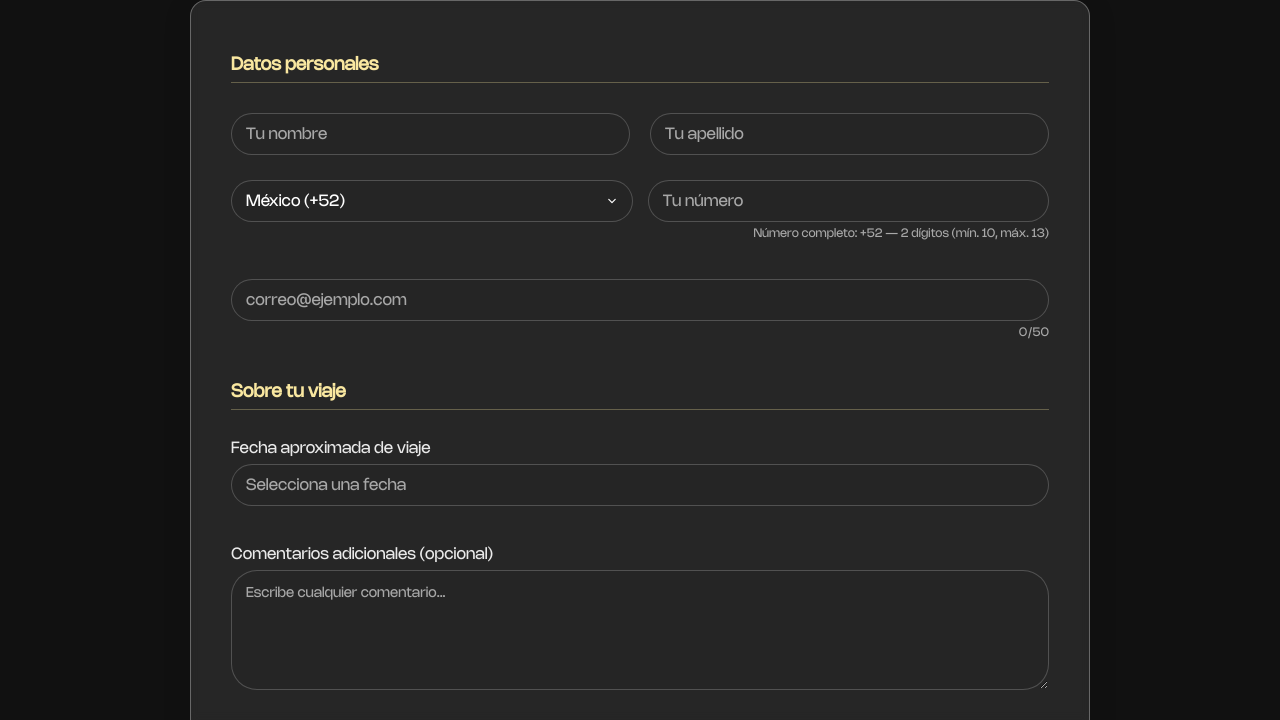
it: Form Component › Form Validation - Phone › should reject phone numbers with less than 10 digits
This screenshot has width=1280, height=720.
Type "Juan" into the field with placeholder "Tu nombre" at (430, 134), box [231, 113, 630, 155]
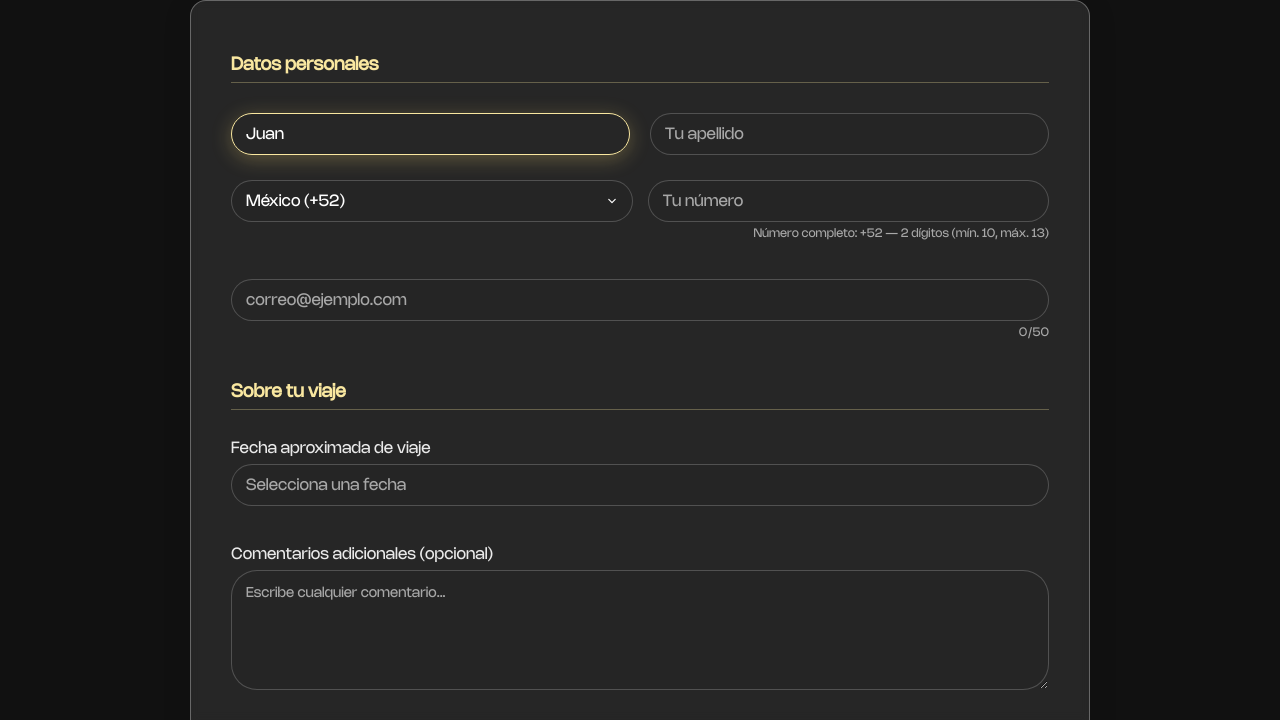
Type "Pérez" into the field with placeholder "Tu apellido" at (850, 134), box [650, 113, 1049, 155]
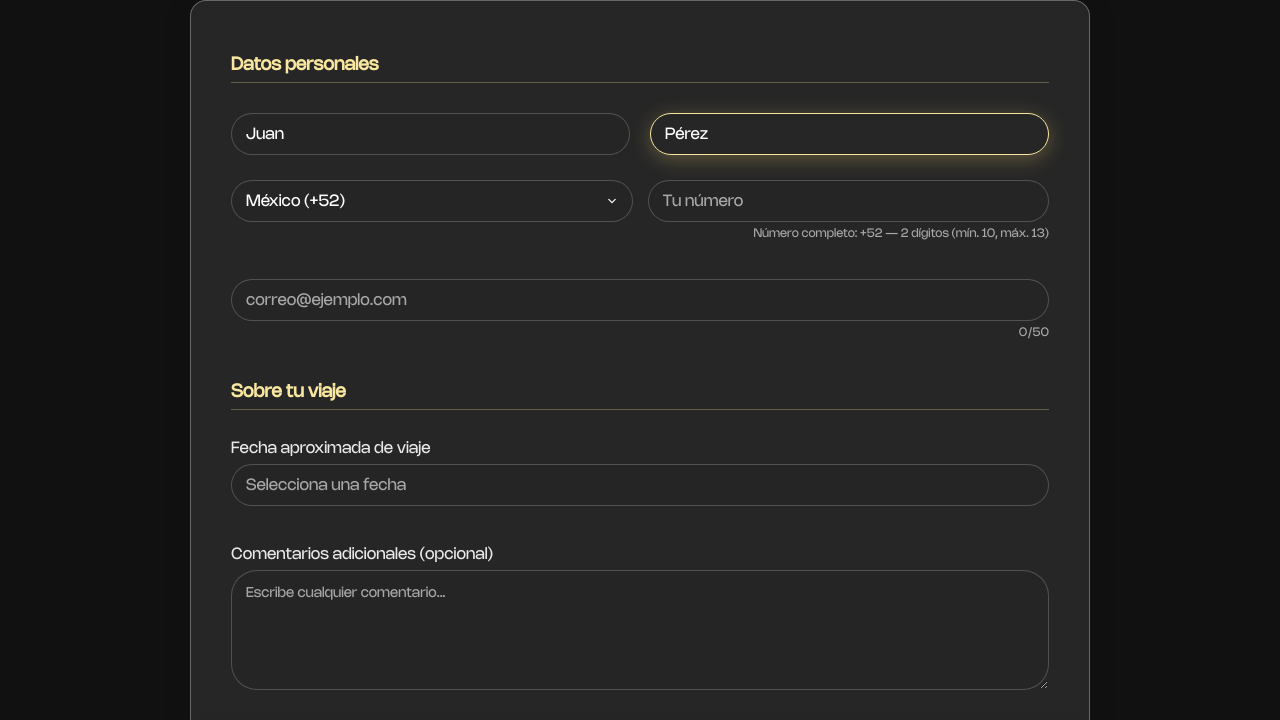
Type "test@example.com" into the field with placeholder "correo@ejemplo.com" at (640, 300), box [231, 279, 1049, 321]
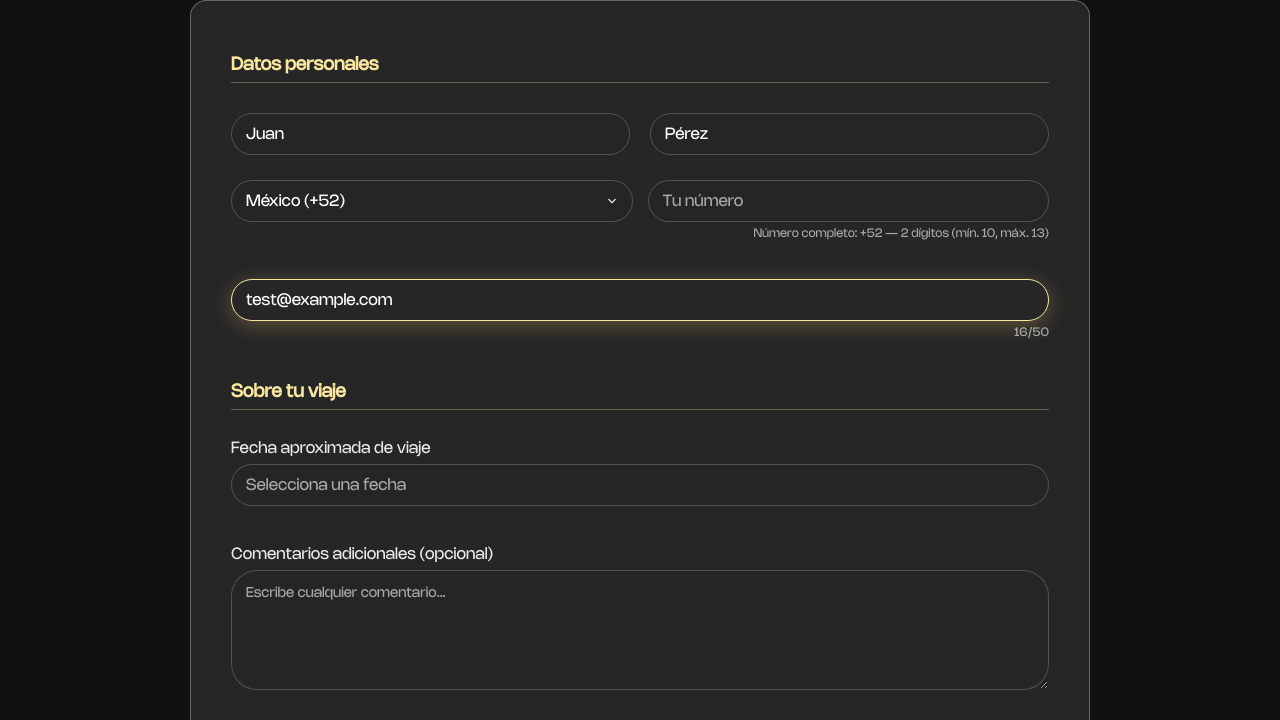
Type "5512345" into the field with placeholder "Tu número" at (848, 201), box [648, 180, 1049, 222]
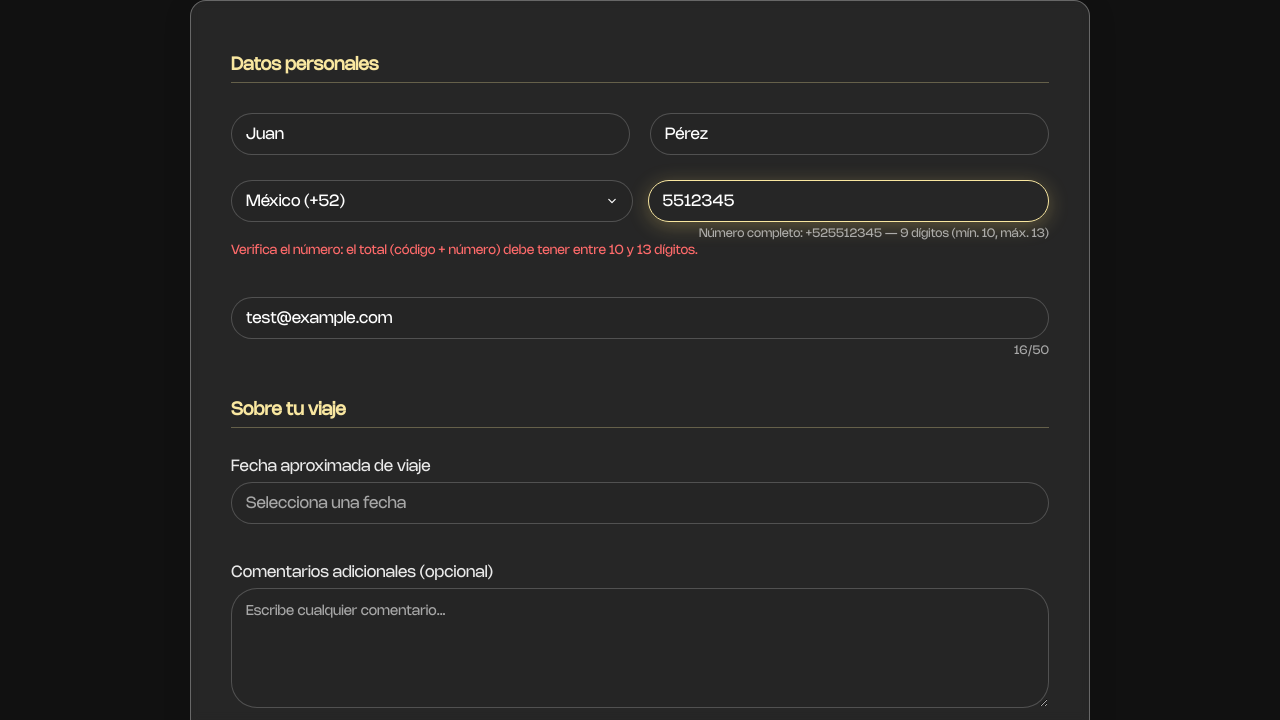
Check: the text "Verifica el número" is shown, box [231, 244, 698, 257]
